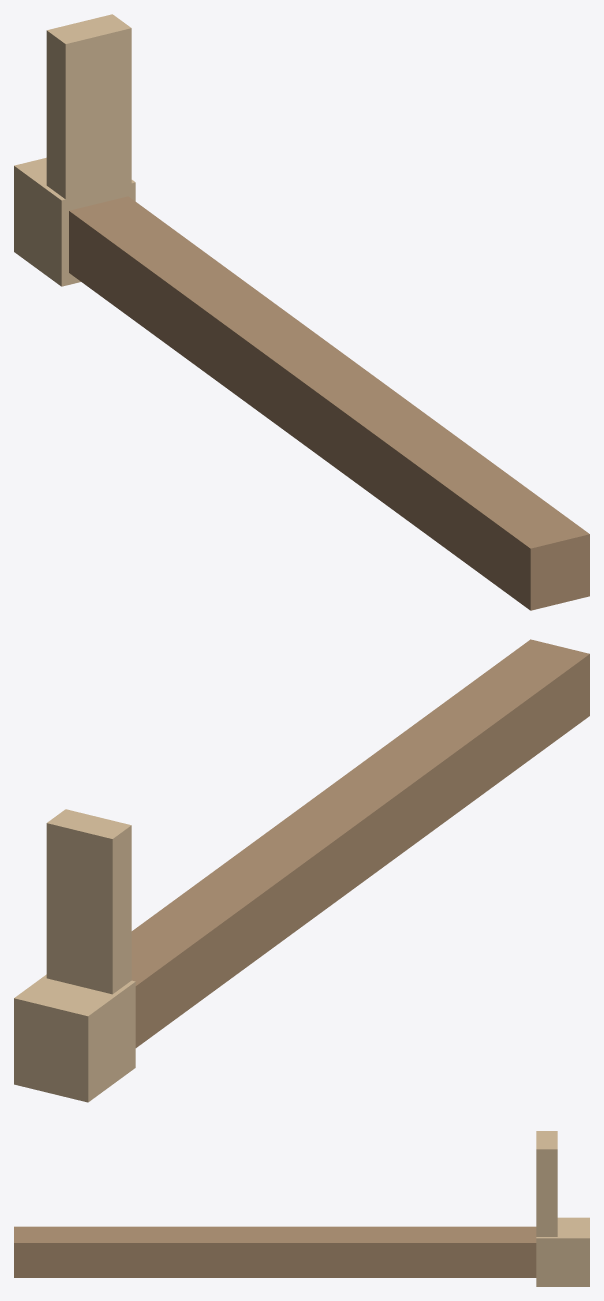
The model's file is hoe_held.gltf.
3 renders of one model, top to bottom at view 1: azimuth 30°, elevation 25°; view 2: azimuth 150°, elevation 25°; view 3: azimuth 270°, elevation 25°, orthographic. The views are drawn at different scales.
Visible parts, largest first — view 1: farm_hoe_held; view 2: farm_hoe_held; view 3: farm_hoe_held.
Boxes of the visible parts, x1=… form: farm_hoe_held: x1=14, y1=14, x2=589, y2=610; farm_hoe_held: x1=14, y1=639, x2=589, y2=1102; farm_hoe_held: x1=14, y1=1131, x2=589, y2=1286.
Size of the model in its own units: 0.045 by 0.14 by 0.535.
